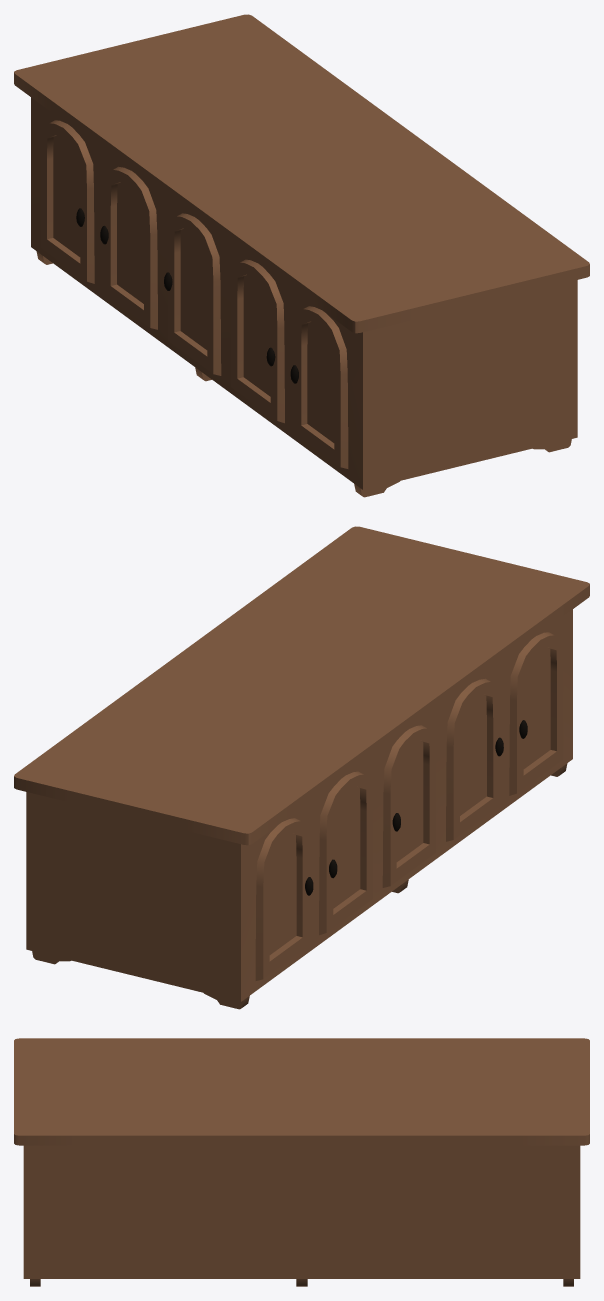
File: 079_huge_cupboard_var3.glb
The picture shows the model from 3 angles, top to bottom: view 1: azimuth 30°, elevation 25°; view 2: azimuth 150°, elevation 25°; view 3: azimuth 270°, elevation 25°; orthographic projection. The views are drawn at different scales.
Parts seen in each view (by area): view 1: table; view 2: table; view 3: table.
Part boxes in pixels (<box>): table: <box>14,14,589,497</box>; table: <box>14,526,589,1009</box>; table: <box>14,1038,589,1286</box>.
Bounding box in the file's own units: 1.5 × 1.12 × 3.75.
